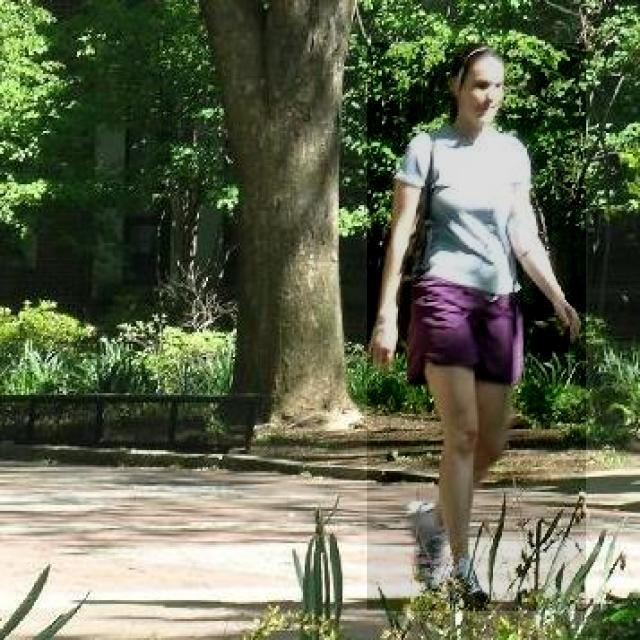with scooter: (367, 43, 586, 611)
